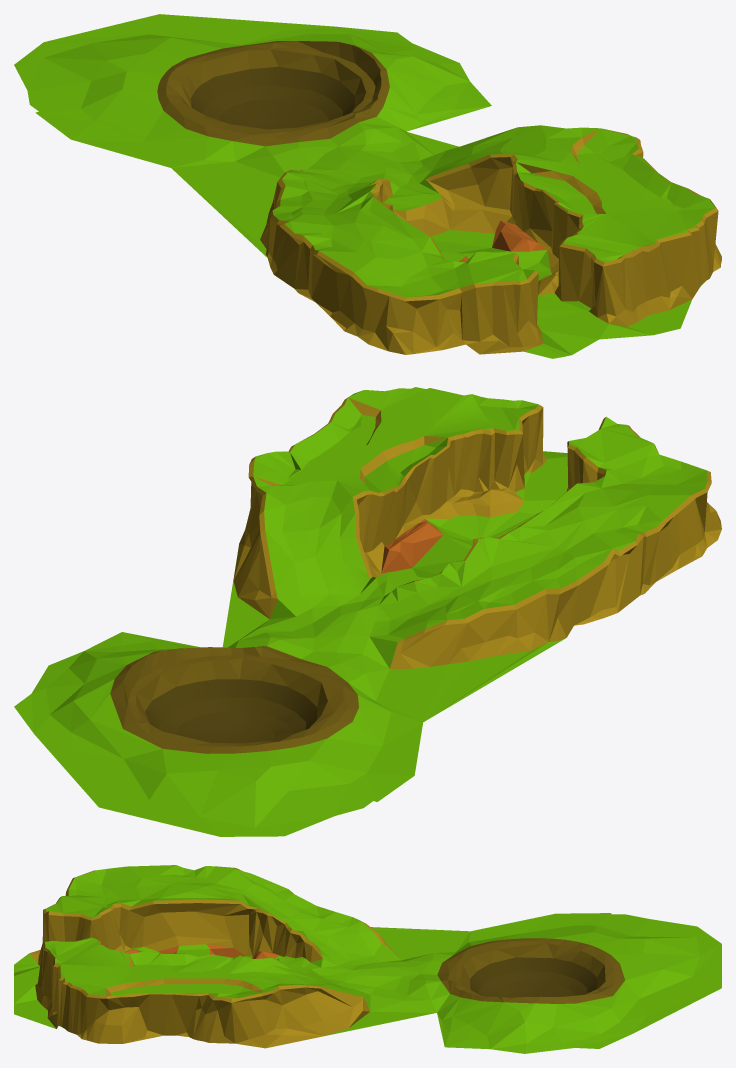
The model's file is BIOMA2.fbx.
3 renders of one model, top to bottom at view 1: azimuth 30°, elevation 25°; view 2: azimuth 150°, elevation 25°; view 3: azimuth 270°, elevation 25°, orthographic. The views are drawn at different scales.
Visible parts, largest first — view 1: TerrainZone1.001; view 2: TerrainZone1.001; view 3: TerrainZone1.001.
Part boxes in pixels (x1,y1,x2,y2): TerrainZone1.001: (14, 14, 721, 358); TerrainZone1.001: (14, 387, 721, 836); TerrainZone1.001: (14, 865, 721, 1053).
Size of the model in its own units: 14907 by 3885 by 31582.
